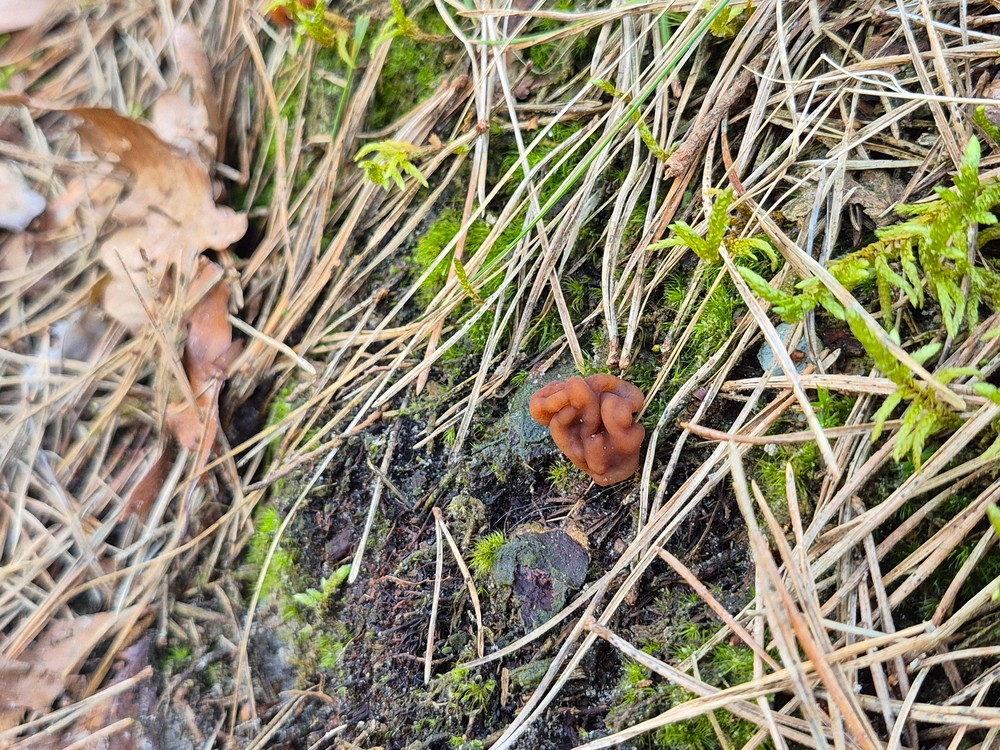cap: (530, 374, 644, 484)
